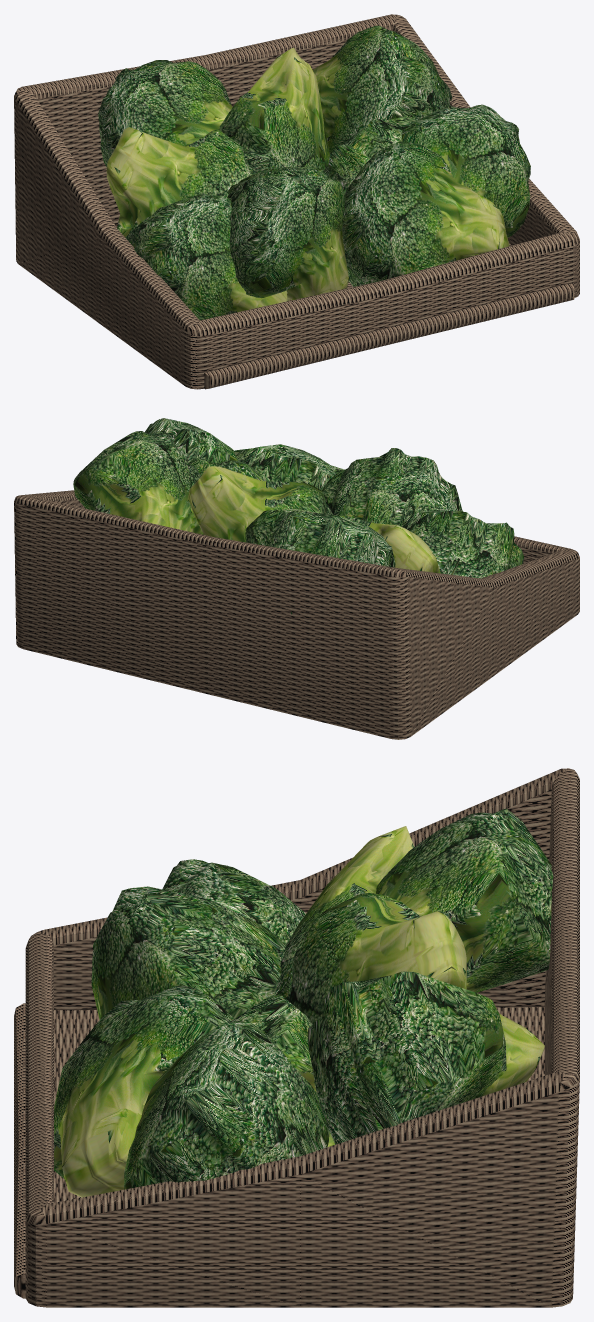
File: broccoli.fbx
The picture shows the model from 3 angles, top to bottom: view 1: azimuth 30°, elevation 25°; view 2: azimuth 150°, elevation 25°; view 3: azimuth 270°, elevation 25°; orthographic projection. The views are drawn at different scales.
Parts seen in each view (by area): view 1: broccoli:polySurface1; view 2: broccoli:polySurface1; view 3: broccoli:polySurface1.
Boxes of the visible parts, x1,y1,x2,y2 form: broccoli:polySurface1: [14, 14, 579, 389]; broccoli:polySurface1: [14, 418, 579, 739]; broccoli:polySurface1: [14, 768, 579, 1307].
Size of the model in its own units: 6 by 2.85 by 4.96.
2 materials, 2 textured.
